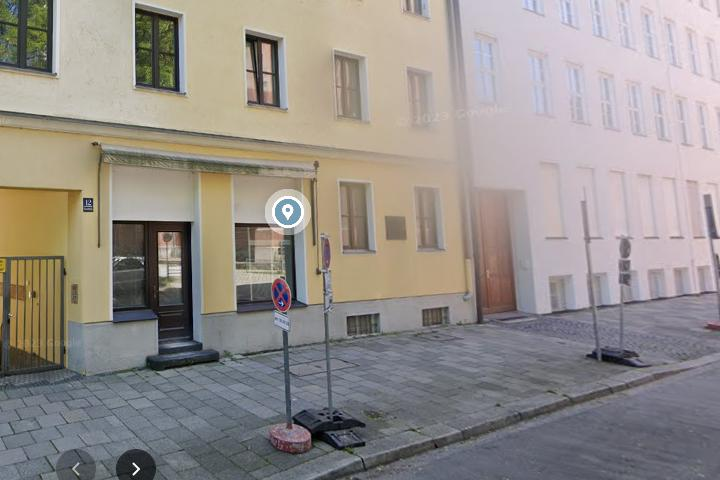google_maps: (117, 449, 156, 480), (57, 450, 96, 480), (273, 197, 304, 228)
traffic_sign: (271, 277, 292, 314)
